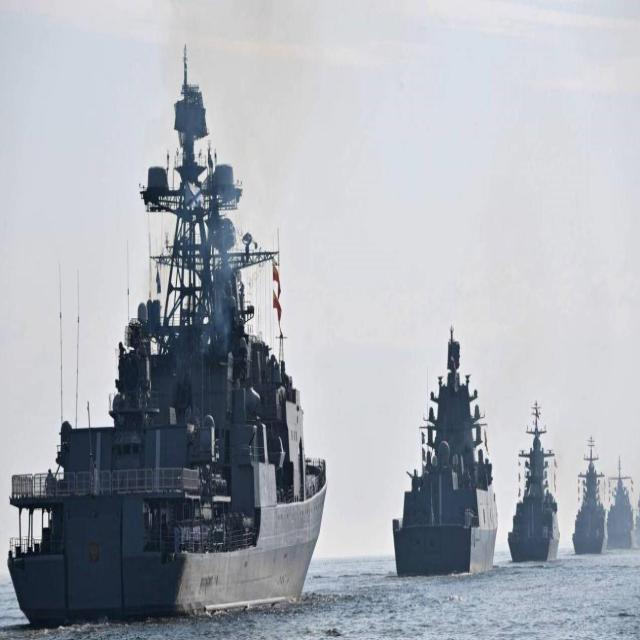navalvessels: (33, 67, 331, 623), (380, 330, 496, 572), (510, 373, 563, 556), (576, 427, 608, 568), (610, 438, 638, 542)
